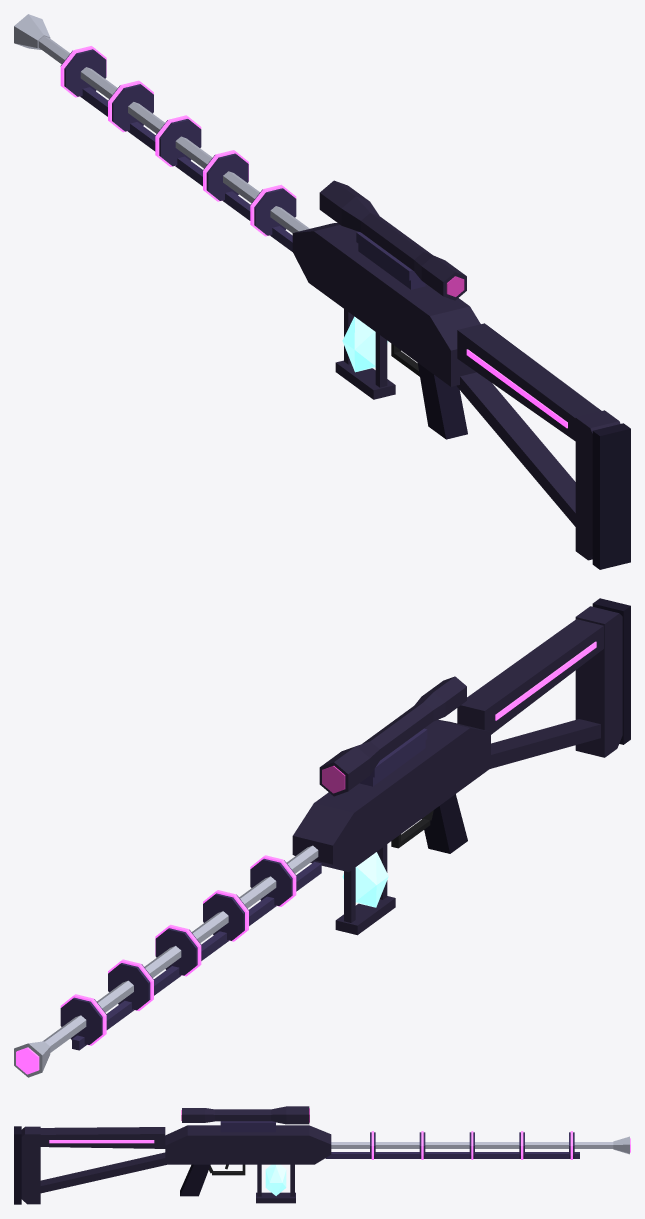
Rendered from Nova.glb.
3 renders of one model, top to bottom at view 1: azimuth 30°, elevation 25°; view 2: azimuth 150°, elevation 25°; view 3: azimuth 270°, elevation 25°, orthographic. The views are drawn at different scales.
Parts seen in each view (by area): view 1: Body, Stock, Handguard, Pad, Scope, Barrel, Accent, Grip, Magazine, Mount, Muzzle; view 2: Body, Stock, Handguard, Scope, Barrel, Accent, Grip, Pad, Magazine, Mount; view 3: Body, Stock, Handguard, Scope, Barrel, Accent, Grip, Mount, Pad, Magazine, Trigger, Muzzle.
Boxes of the visible parts, box(x1,y1,x2,y2) form: Body: box(292, 223, 480, 399); Stock: box(456, 323, 620, 560); Handguard: box(60, 49, 296, 251); Pad: box(592, 423, 630, 569); Scope: box(319, 180, 466, 300); Barrel: box(38, 36, 309, 233); Accent: box(60, 46, 567, 428); Grip: box(417, 363, 467, 439); Magazine: box(342, 316, 388, 372); Mount: box(356, 232, 425, 289); Muzzle: box(14, 14, 50, 49); Body: box(292, 719, 490, 935); Stock: box(457, 606, 622, 768); Handguard: box(60, 858, 321, 1050); Scope: box(319, 676, 466, 796); Barrel: box(42, 845, 318, 1052); Accent: box(16, 641, 596, 1074); Grip: box(422, 794, 467, 853); Pad: box(592, 598, 630, 744); Magazine: box(342, 852, 388, 907); Mount: box(359, 728, 427, 786); Body: box(165, 1125, 331, 1203); Stock: box(21, 1126, 166, 1204); Handguard: box(325, 1132, 579, 1158); Scope: box(182, 1106, 309, 1124); Barrel: box(331, 1142, 613, 1148); Accent: box(49, 1131, 630, 1159); Grip: box(180, 1164, 210, 1196); Mount: box(220, 1121, 275, 1132); Pad: box(14, 1126, 21, 1204); Magazine: box(265, 1164, 286, 1195); Trigger: box(209, 1164, 245, 1175); Muzzle: box(613, 1136, 629, 1154).
Bounding box in the file's own units: 0.2402 × 0.94 × 5.58.
